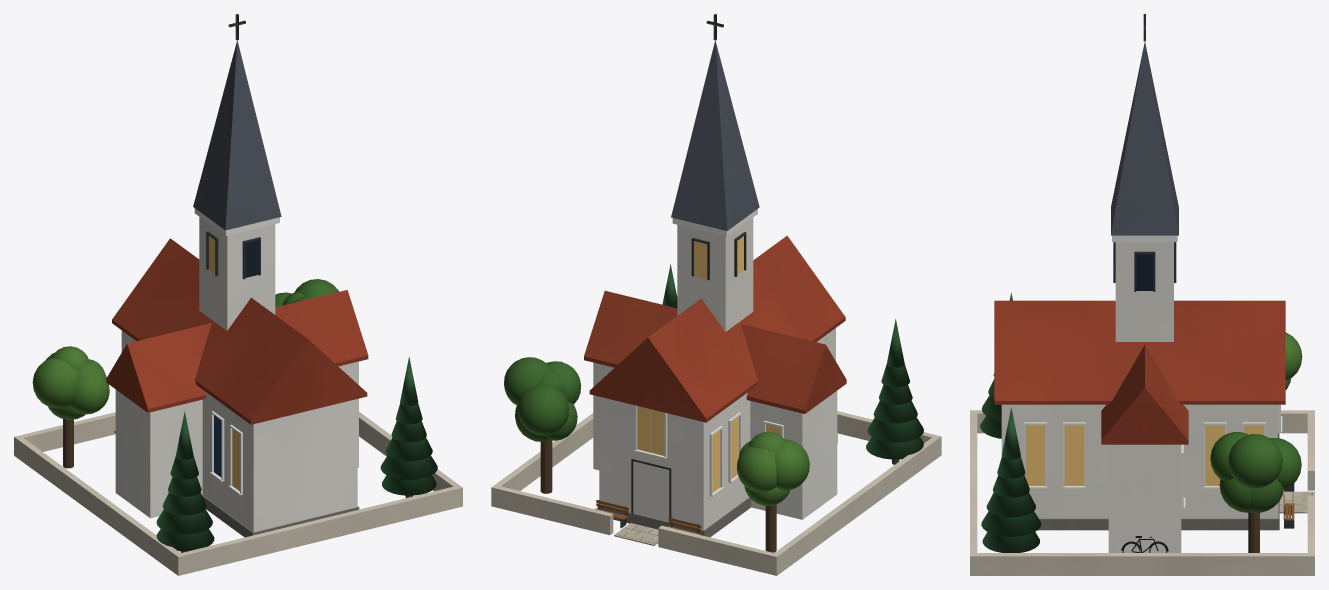
The model's file is dum_03_kostel.glb.
The picture shows the model from 3 angles, left to right: view 1: azimuth 30°, elevation 25°; view 2: azimuth 150°, elevation 25°; view 3: azimuth 270°, elevation 25°; orthographic projection. The views are drawn at different scales.
Visible parts, largest first — view 1: dum, noc; view 2: dum, noc; view 3: dum, noc.
Boxes of the visible parts, x1,y1,x2,y2 form: dum: (14,14,462,575); noc: (209,235,239,491); dum: (491,14,941,575); noc: (637,236,781,492); dum: (970,14,1314,575); noc: (1026,425,1263,485).
Size of the model in its own units: 14.98 by 22.16 by 14.16.
Materials: 1 (1 with a texture image).
